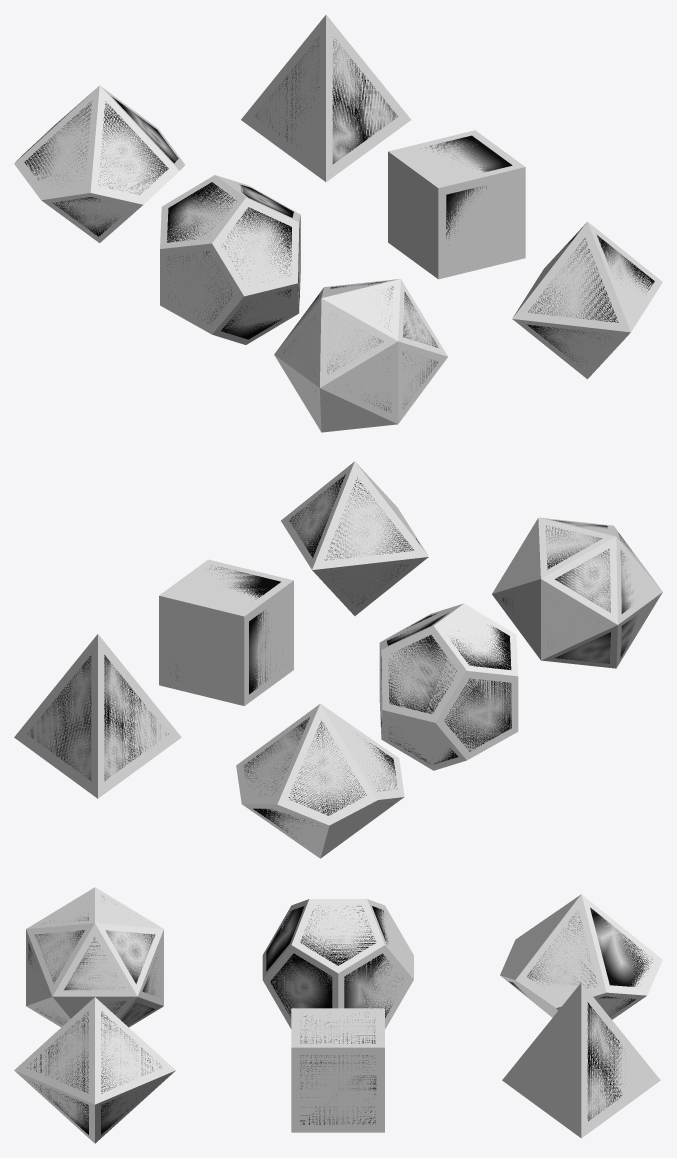
Rendered from dice-BoiUpBaY.glb.
3 renders of one model, top to bottom at view 1: azimuth 30°, elevation 25°; view 2: azimuth 150°, elevation 25°; view 3: azimuth 270°, elevation 25°, orthographic. The views are drawn at different scales.
Parts seen in each view (by area): view 1: SHAPE_D20, SHAPE_D12, SHAPE_D6, SHAPE_D10, SHAPE_D4, SHAPE_D8, MODEL_D10, MODEL_D12, MODEL_D4, MODEL_D8, MODEL_D6, MODEL_D20; view 2: SHAPE_D12, SHAPE_D20, SHAPE_D10, SHAPE_D6, SHAPE_D4, SHAPE_D8, MODEL_D12, MODEL_D4, MODEL_D20, MODEL_D10, MODEL_D8, MODEL_D6; view 3: SHAPE_D20, SHAPE_D4, SHAPE_D6, SHAPE_D8, SHAPE_D12, SHAPE_D10, MODEL_D12, MODEL_D20, MODEL_D8, MODEL_D10, MODEL_D4, MODEL_D6.
Boxes of the visible parts, <box> form: SHAPE_D20: <box>274,279,447,432</box>; SHAPE_D12: <box>160,175,300,344</box>; SHAPE_D6: <box>388,130,525,279</box>; SHAPE_D10: <box>14,85,184,243</box>; SHAPE_D4: <box>241,14,411,181</box>; SHAPE_D8: <box>512,221,662,379</box>; MODEL_D10: <box>22,96,178,236</box>; MODEL_D12: <box>167,182,299,339</box>; MODEL_D4: <box>254,36,397,164</box>; MODEL_D8: <box>527,234,654,362</box>; MODEL_D6: <box>425,135,512,242</box>; MODEL_D20: <box>283,281,438,410</box>; SHAPE_D12: <box>379,603,518,770</box>; SHAPE_D20: <box>492,517,662,668</box>; SHAPE_D10: <box>236,703,404,858</box>; SHAPE_D6: <box>159,559,293,705</box>; SHAPE_D4: <box>14,634,181,798</box>; SHAPE_D8: <box>281,461,428,615</box>; MODEL_D12: <box>381,613,511,763</box>; MODEL_D4: <box>27,655,168,781</box>; MODEL_D20: <box>502,520,637,663</box>; MODEL_D10: <box>244,717,397,841</box>; MODEL_D8: <box>289,474,419,606</box>; MODEL_D6: <box>175,565,280,694</box>; SHAPE_D20: <box>26,887,163,1027</box>; SHAPE_D4: <box>502,982,660,1138</box>; SHAPE_D6: <box>291,1008,384,1132</box>; SHAPE_D8: <box>14,997,175,1143</box>; SHAPE_D12: <box>262,899,413,1029</box>; SHAPE_D10: <box>500,894,662,1019</box>; MODEL_D12: <box>266,905,403,1017</box>; MODEL_D20: <box>28,895,160,1025</box>; MODEL_D8: <box>27,1011,161,1134</box>; MODEL_D10: <box>509,907,652,1016</box>; MODEL_D4: <box>587,1002,626,1121</box>; MODEL_D6: <box>300,1016,376,1124</box>.
Bounding box in the file's own units: 5.09 × 2.2 × 8.01.
3 materials, 2 textured.
